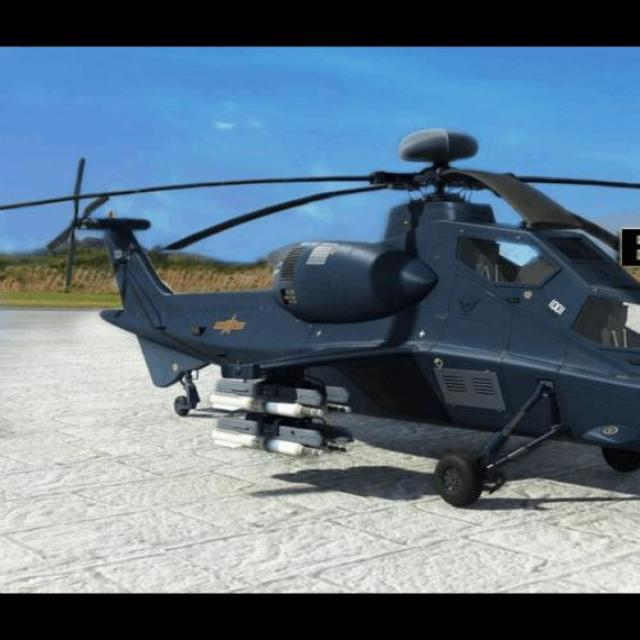MIL_HELO: (0, 111, 640, 514)
